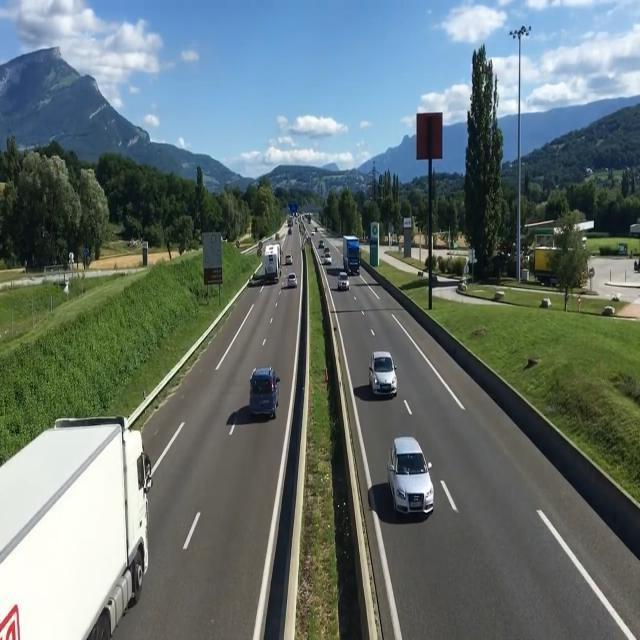Car: (389, 436, 435, 516), (249, 365, 281, 420), (368, 350, 398, 397), (338, 271, 350, 289), (286, 272, 298, 287), (323, 252, 332, 264), (285, 254, 294, 264), (317, 240, 325, 250)
Truck: (0, 416, 156, 640), (263, 242, 284, 283), (342, 234, 361, 276)
